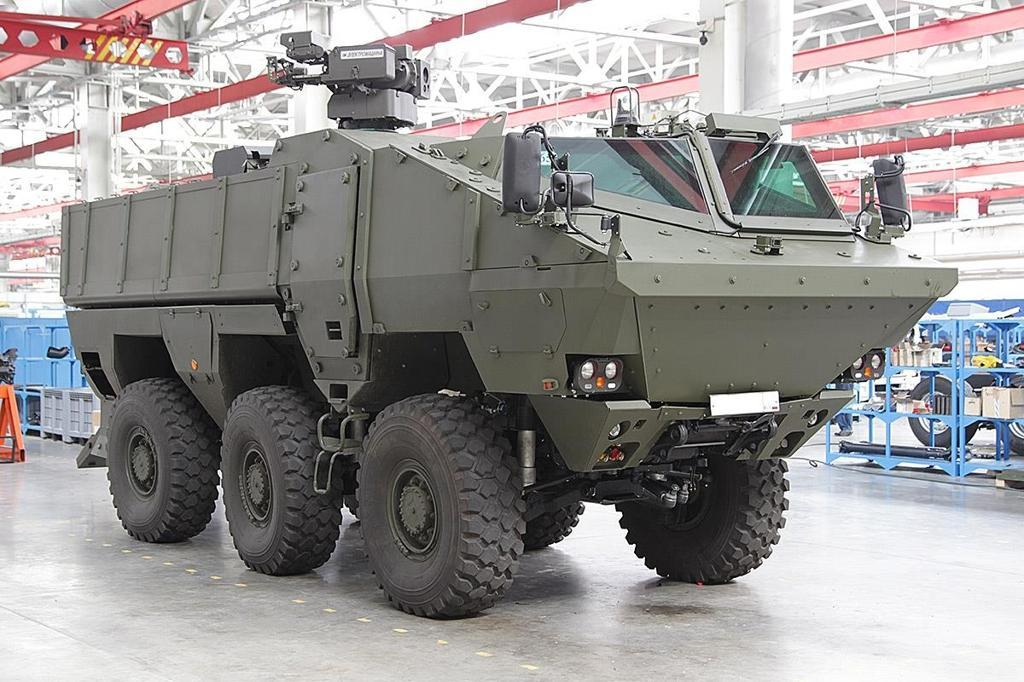MIL_IFV: (60, 29, 960, 620)
